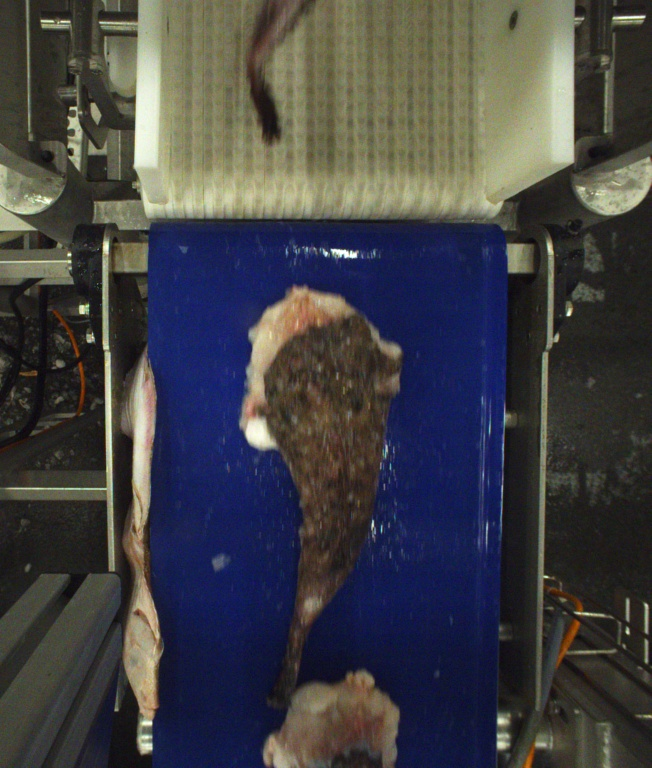ANF: (247, 0, 312, 147)
